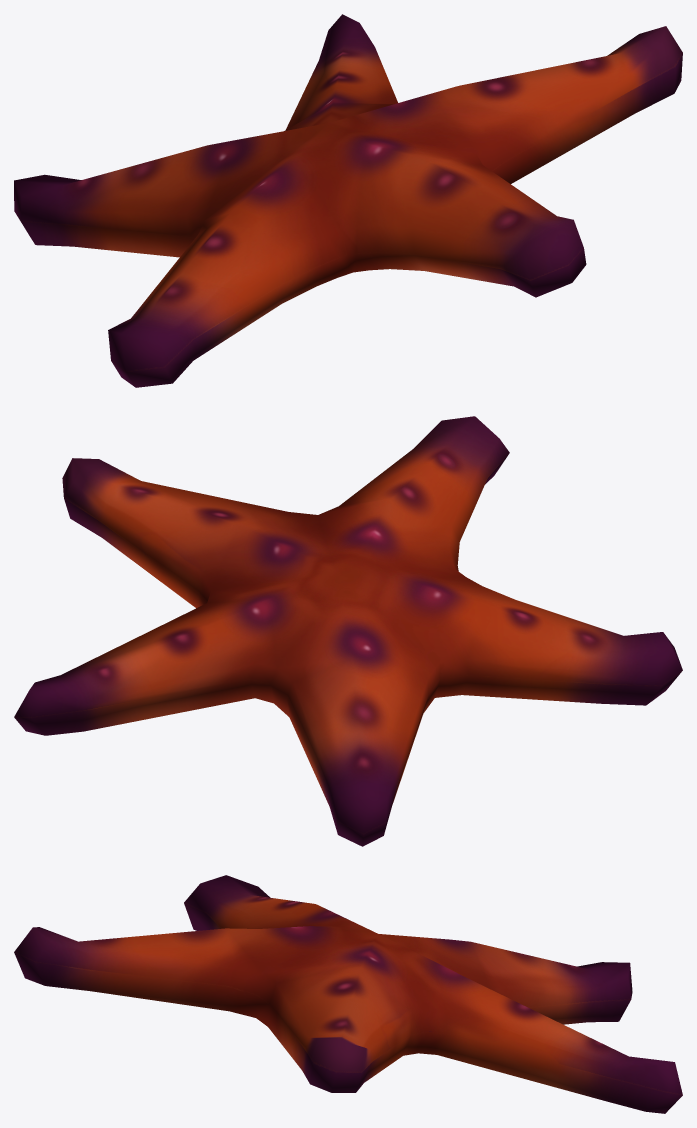
Rendered from starfish.fbx.
The picture shows the model from 3 angles, top to bottom: view 1: azimuth 30°, elevation 25°; view 2: azimuth 150°, elevation 25°; view 3: azimuth 270°, elevation 25°; orthographic projection. The views are drawn at different scales.
Parts seen in each view (by area): view 1: Star_fish; view 2: Star_fish; view 3: Star_fish.
Boxes of the visible parts, box(x1,y1,x2,y2) form: Star_fish: box(14, 14, 682, 387); Star_fish: box(14, 416, 682, 846); Star_fish: box(14, 875, 682, 1113).
Bounding box in the file's own units: 178 × 55.87 × 184.
